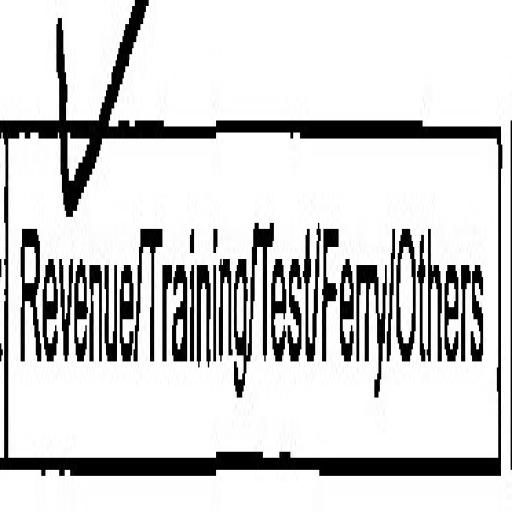check: (0, 0, 138, 494)
